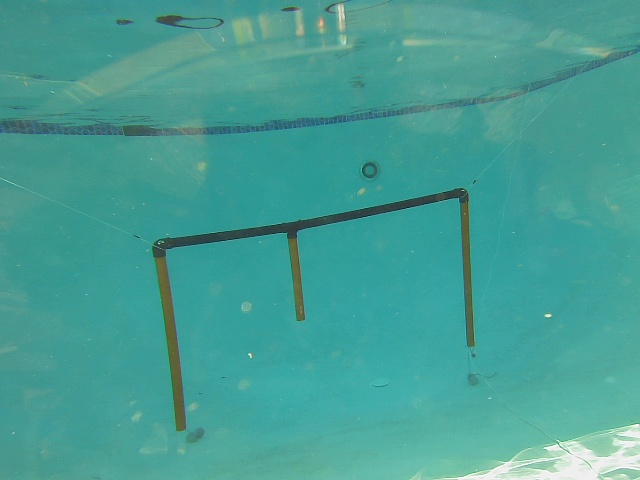Gate: (153, 249, 189, 434), (457, 198, 477, 350), (288, 236, 308, 320)
